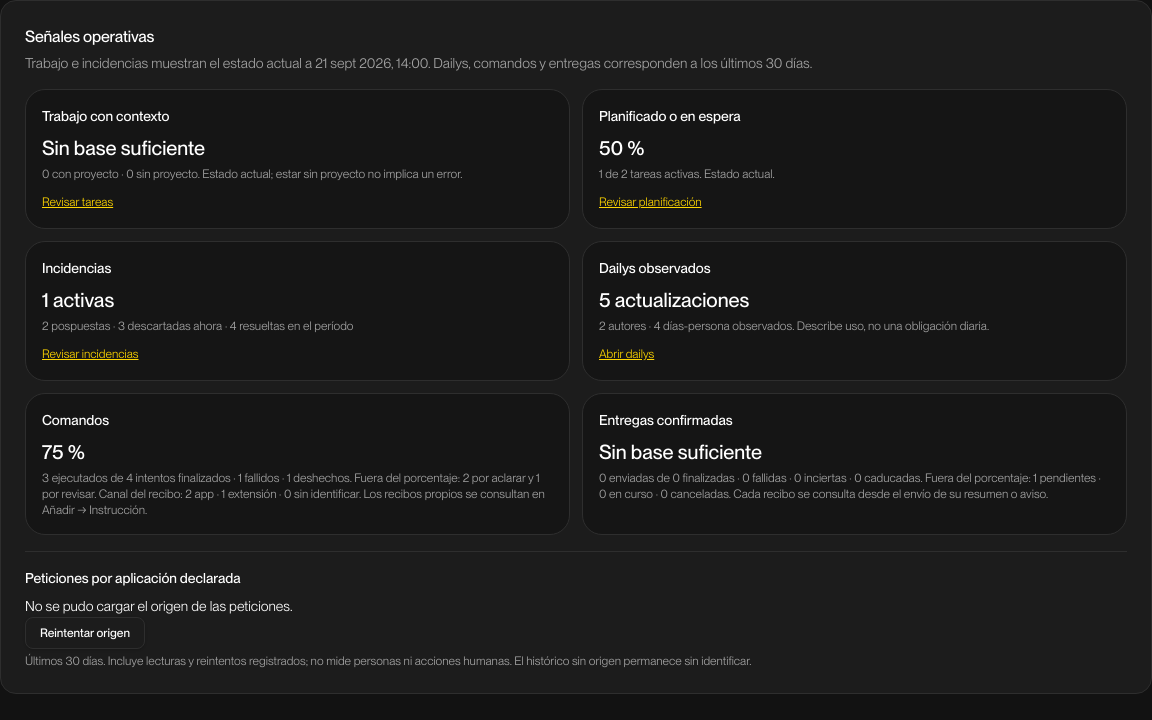
Test: does not turn a failed origin query into zero requests
Expected: the text "No se pudo cargar el origen de las peticiones." is shown, [25,598,292,614]
Expected: the text "Web:" is not shown
What coordinates should you click on to do the following:
click the button "Reintentar origen"
I would click on:
 (85, 633)
Its box is [25,617,145,649].
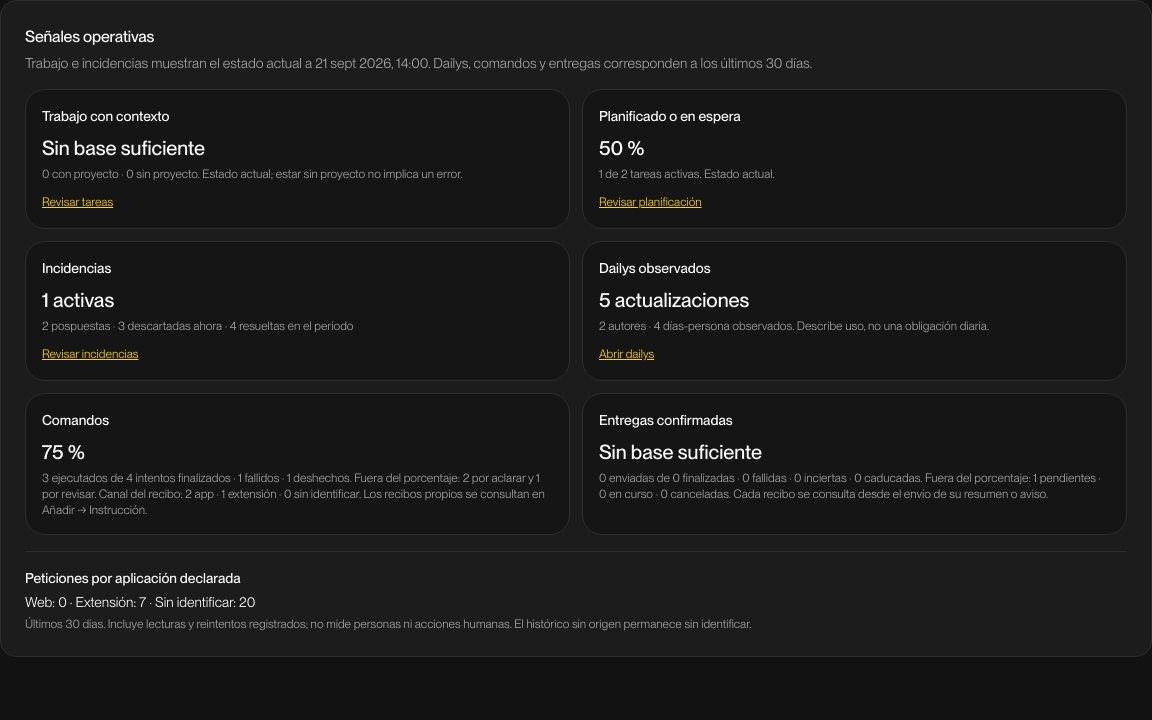
Expected: the text "Web: 0 · Extensión: 7 · Sin identificar: 20" is shown, [25,594,255,610]
